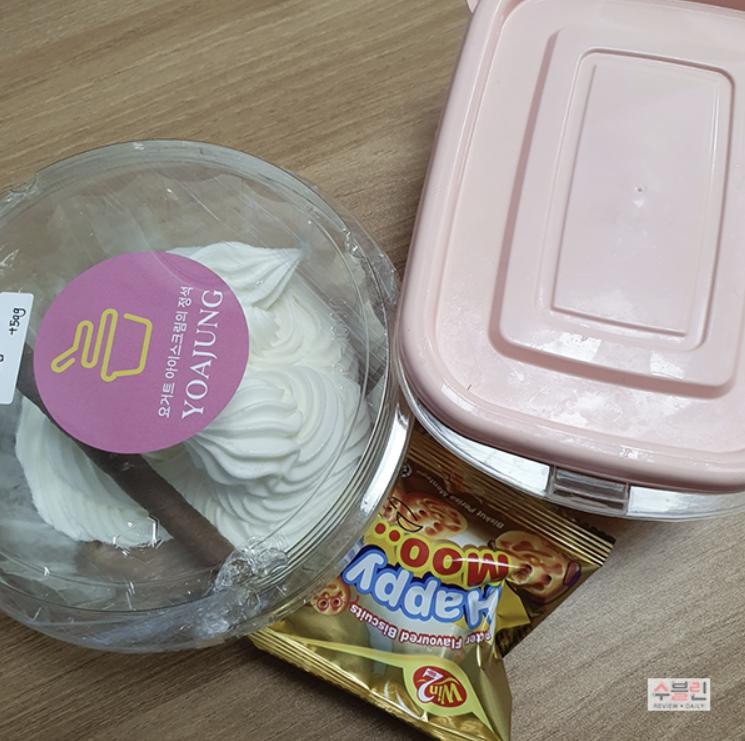Lunch Box: (0, 141, 407, 651), (399, 0, 744, 519)
